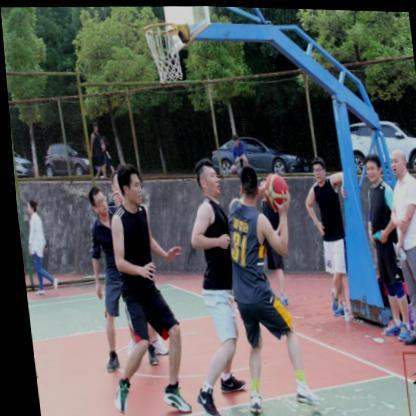basketball: (259, 170, 285, 205)
